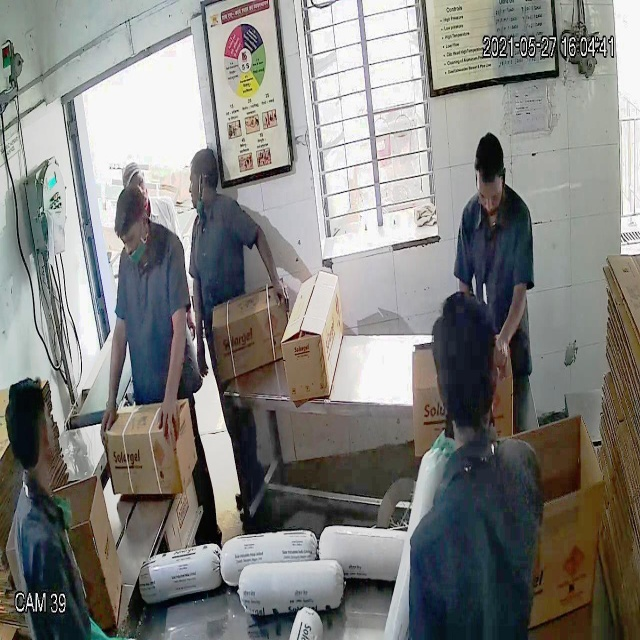Sin_gafas: (471, 179, 507, 211), (116, 224, 149, 258)
